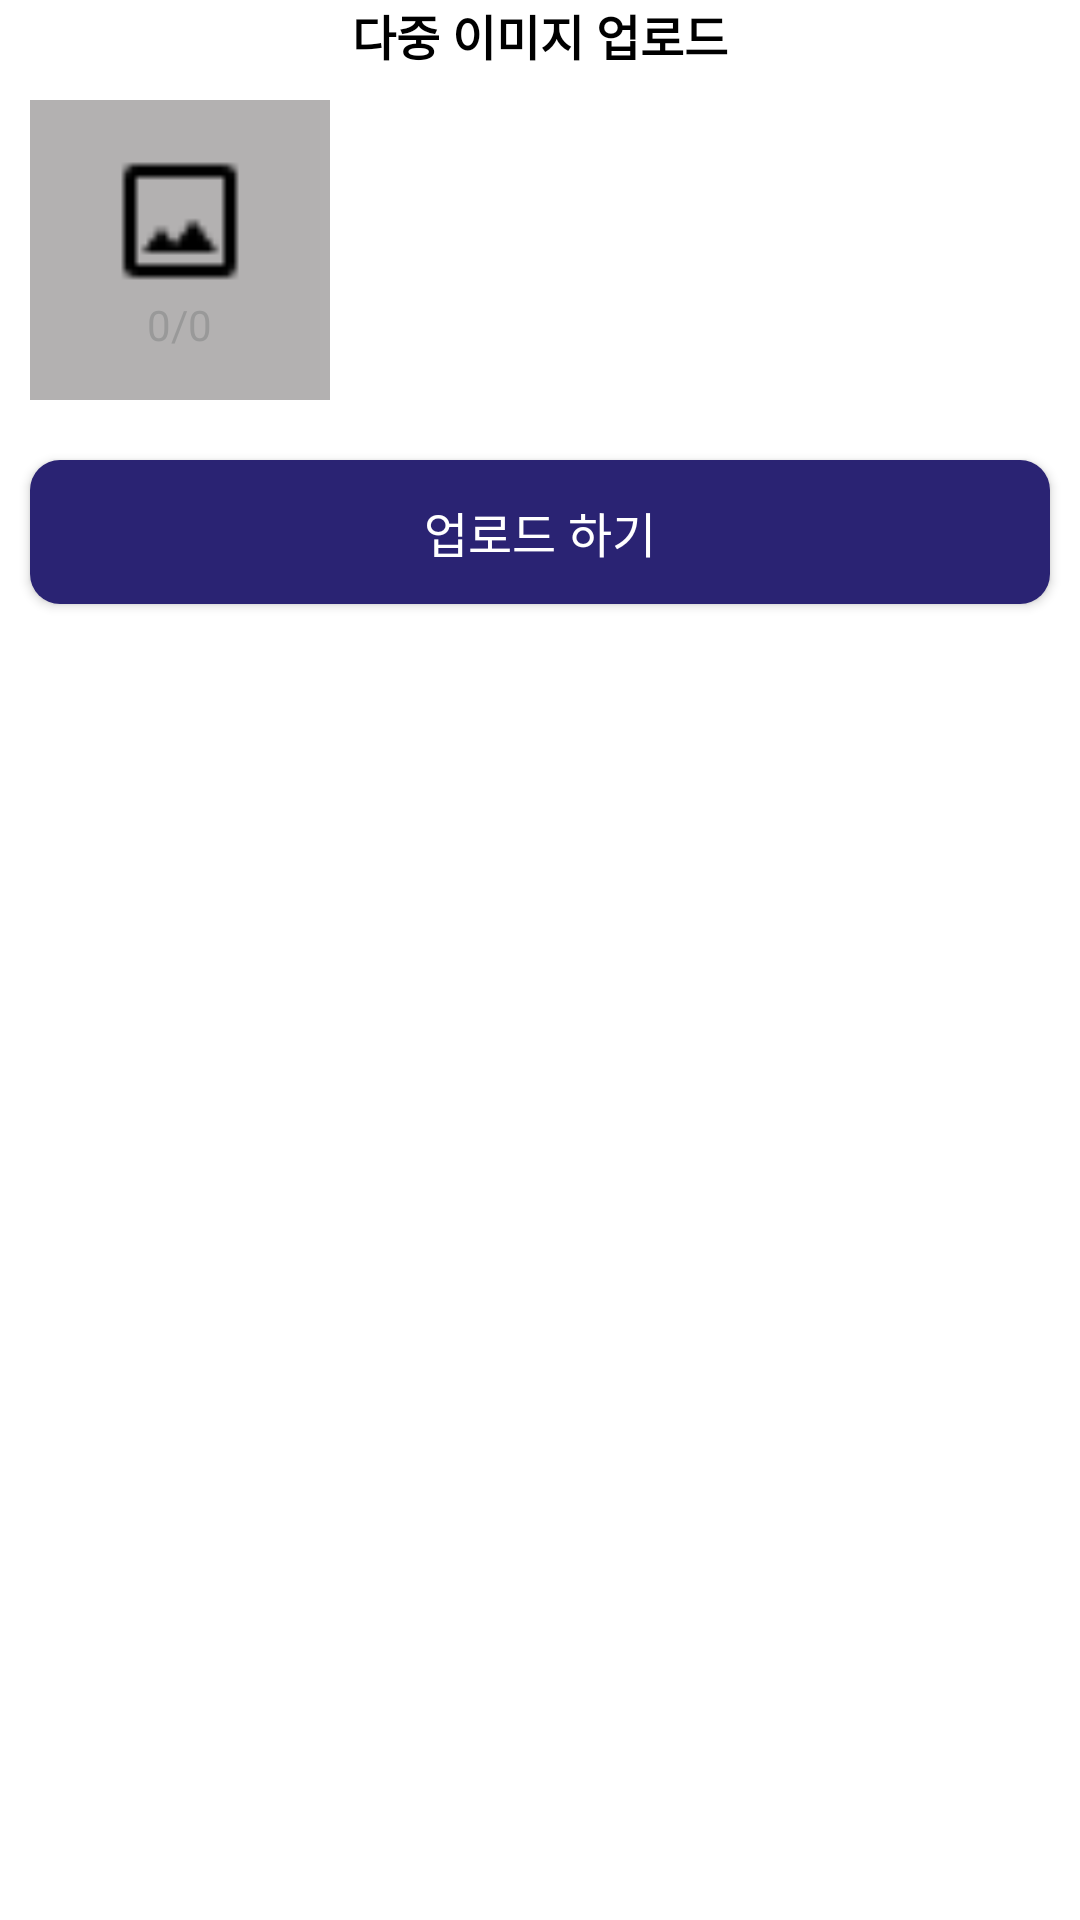

Named icons in this screenshot (1080px x 1920px) and their bounding boxes, BBox(x1, y1, x2, y2):
photo: BBox(121, 162, 239, 280)
